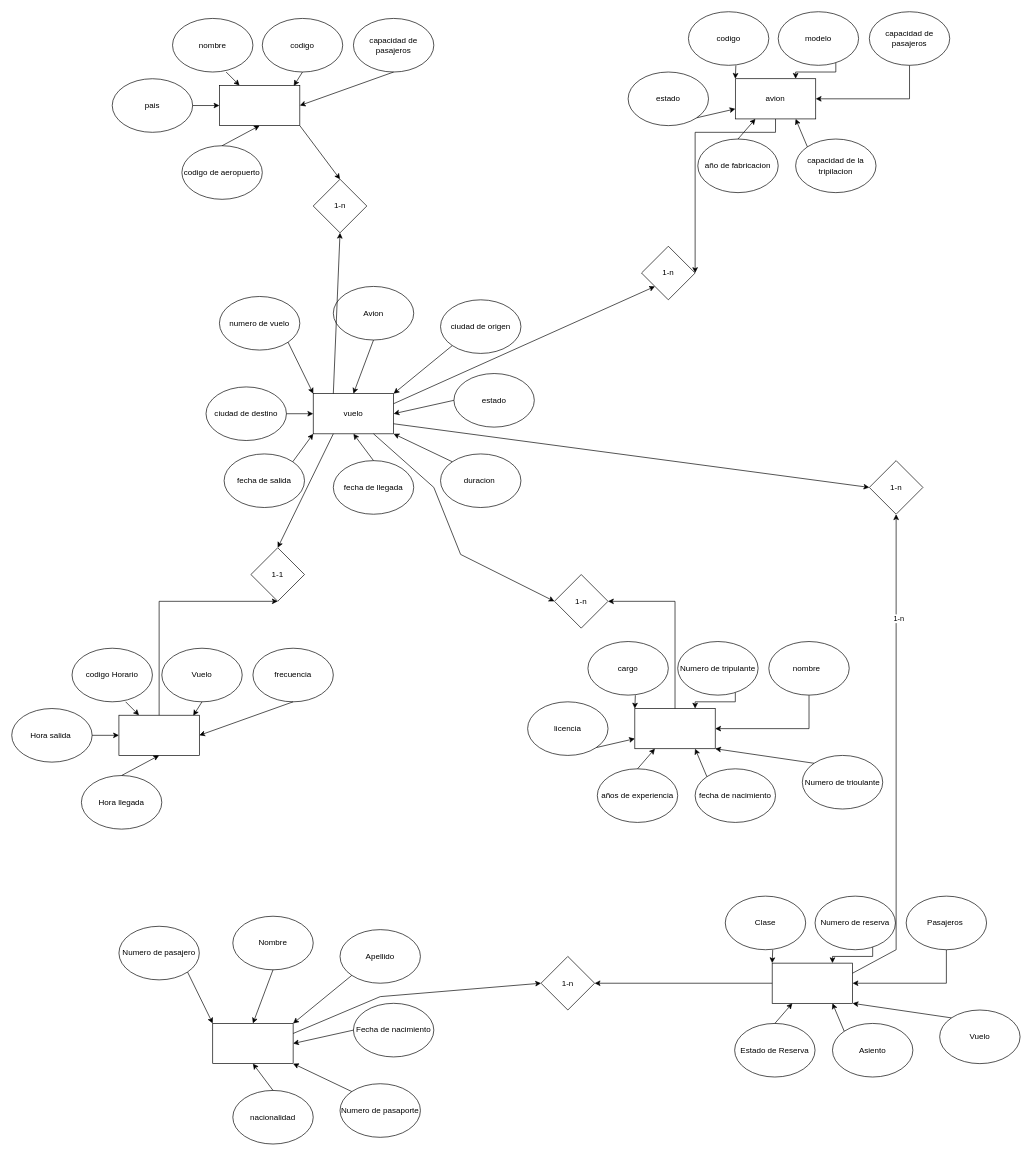
This 1032x1156 diagram has some shape labels left out. Here are the shapes that lost their labels. From the top down, the box of each, then its label:
(219, 85, 300, 126): Ciudad
(118, 715, 199, 755): Horario de Vuelo
(634, 708, 715, 749): Tripulacion
(772, 962, 853, 1003): Reserva De Pasajero
(212, 1023, 293, 1064): Pasajero
